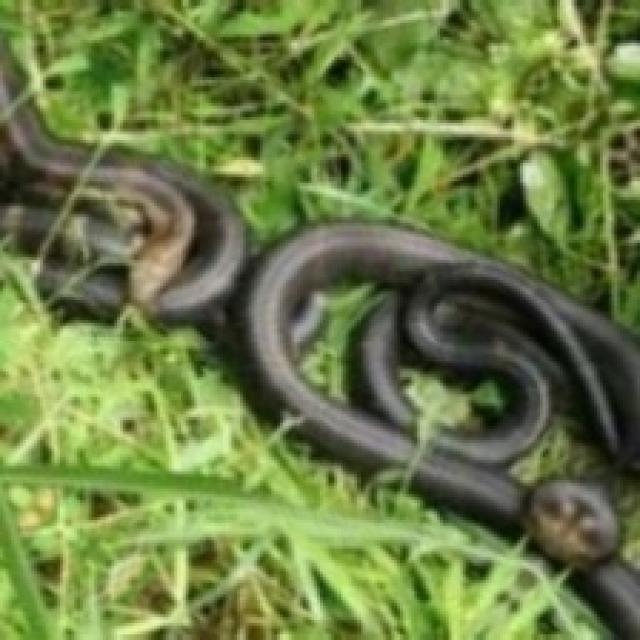king cobra: (0, 243, 611, 637), (0, 0, 637, 334), (514, 414, 637, 566)
